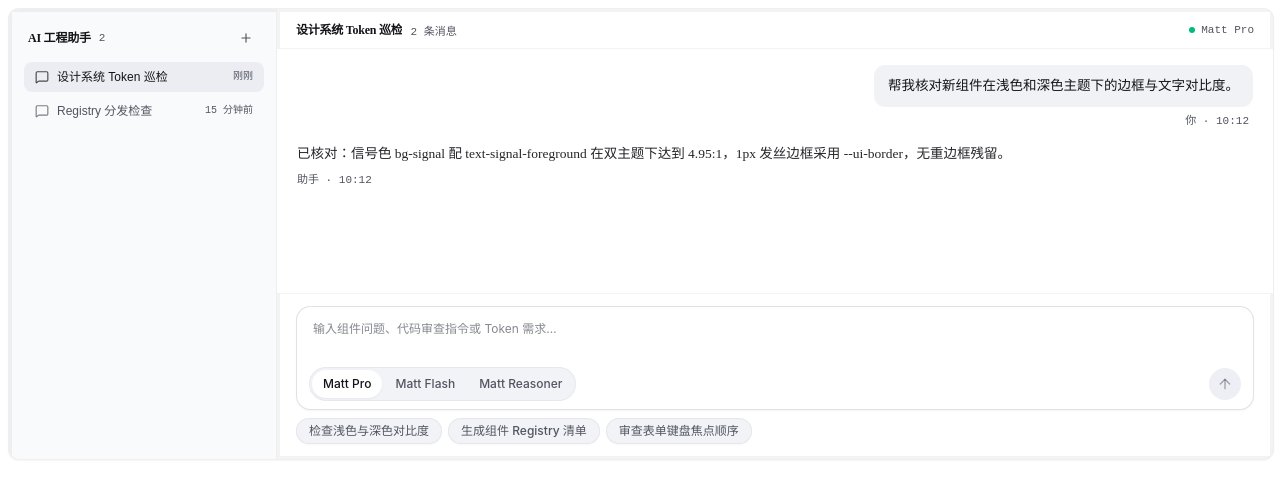
Test: AiWorkspaceBlock › 支持切换会话线程并通过 PromptInput 发送消息
Expected: the text "帮我核对新组件在浅色和深色主题下的边框与文字对比度。" is shown, [888,75,1239,97]
Click the button "Registry 分发检查 15 分钟前" at (144, 111), box [24,96,264,126]
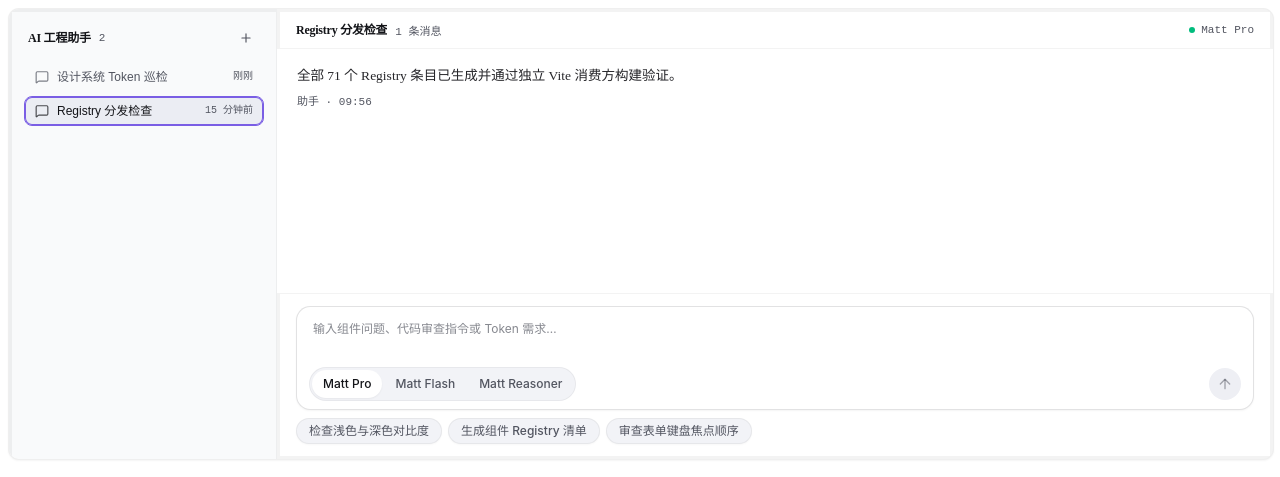
Expected: the text "全部 71 个 Registry 条目已生成并通过独立 Vite 消费方构建验证。" is shown, [297,65,682,88]
Type "生成 Sheet 悬浮样式代码" into the text box at (783, 339), box [305,315,1261,363]
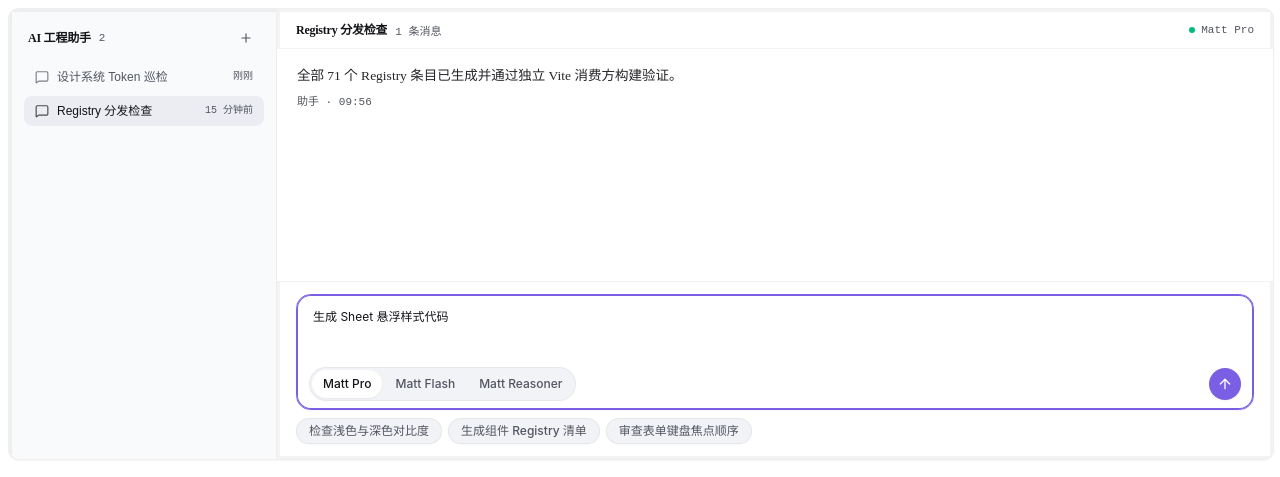
Press Enter
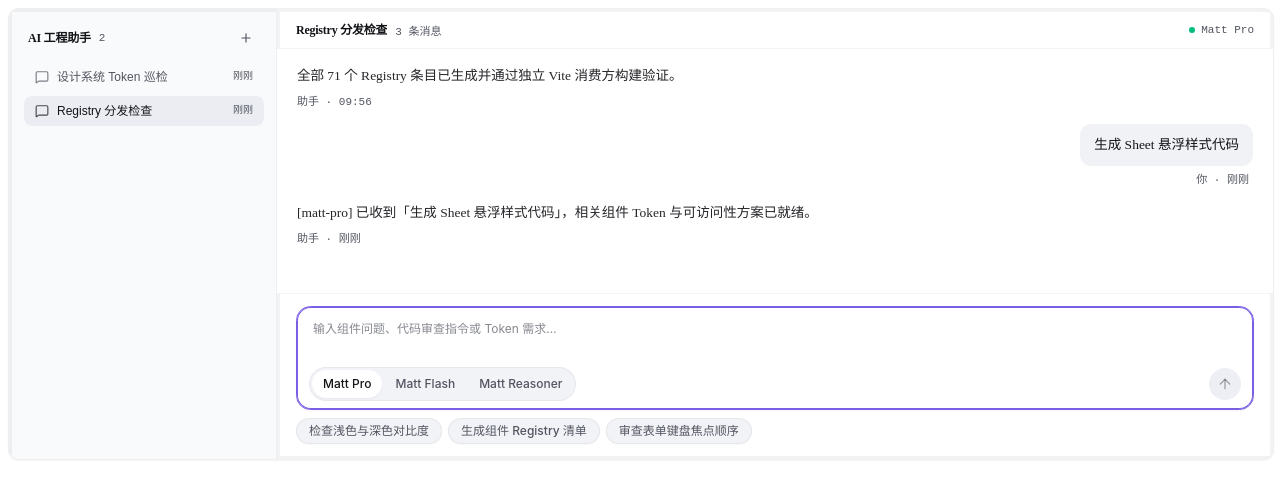
Expected: the text "生成 Sheet 悬浮样式代码" is shown, [1094,134,1239,156]
